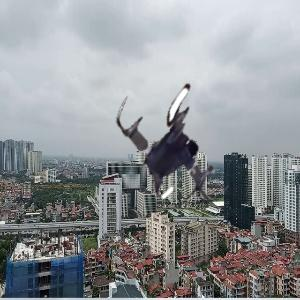drone: (109, 69, 255, 215)
